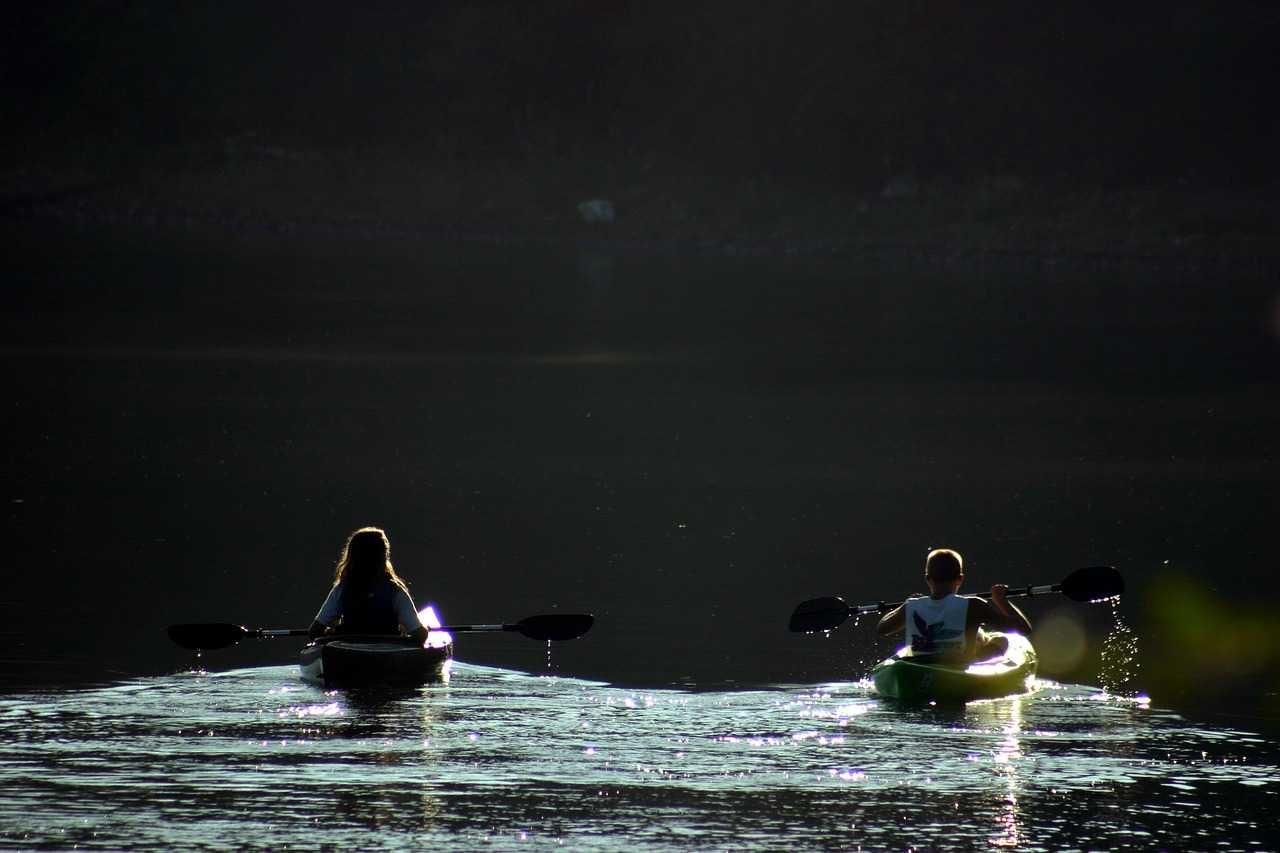kayak: (872, 628, 1039, 705), (298, 636, 452, 686)
